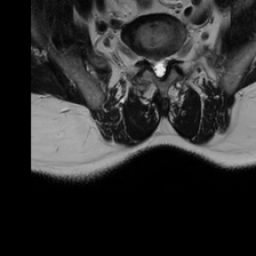CCS_normal: (156, 53, 162, 82)
LFS_stenosis: (169, 46, 176, 66)
LLS_normal: (162, 51, 168, 78)
RFS_severe_stenosis: (141, 47, 151, 67)
RLS_normal: (151, 52, 156, 77)
